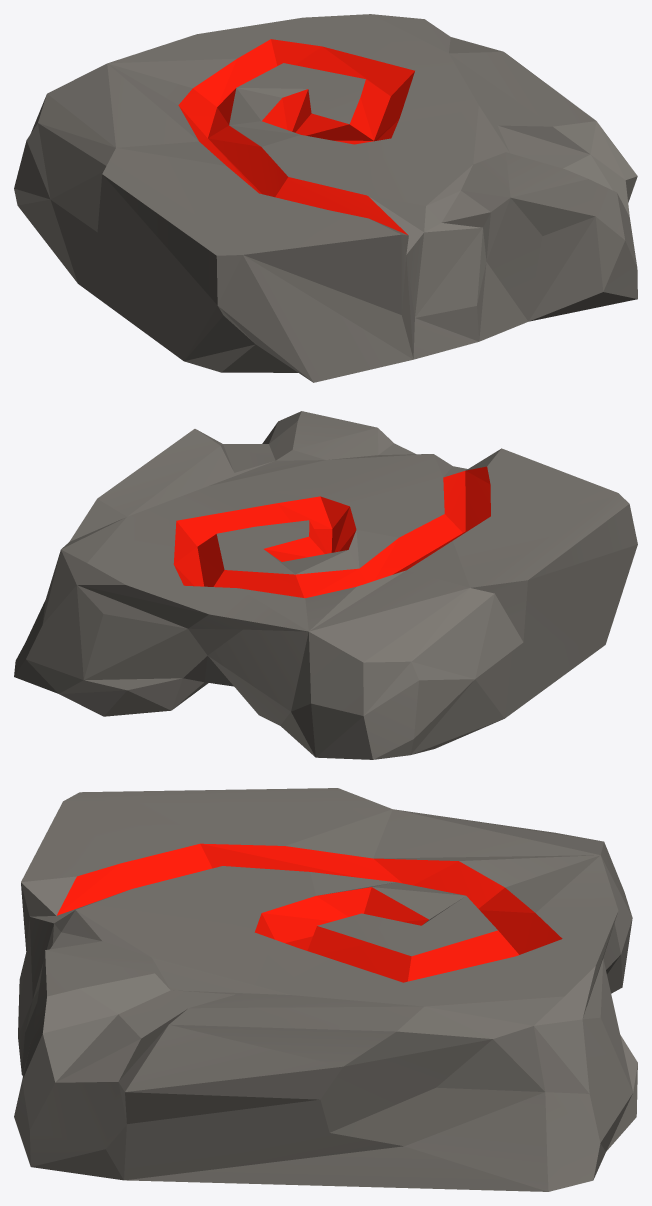
The model's file is SM_Env_Rune_Square_01.obj.
The picture shows the model from 3 angles, top to bottom: view 1: azimuth 30°, elevation 25°; view 2: azimuth 150°, elevation 25°; view 3: azimuth 270°, elevation 25°; orthographic projection. The views are drawn at different scales.
Visible parts, largest first — view 1: SM_Env_Rune_Square_01; view 2: SM_Env_Rune_Square_01; view 3: SM_Env_Rune_Square_01.
Part boxes in pixels (x1,y1,x2,y2): SM_Env_Rune_Square_01: (14,14,637,382); SM_Env_Rune_Square_01: (14,411,637,759); SM_Env_Rune_Square_01: (14,788,637,1191).
Bounding box in the file's own units: 0.5889 × 0.1647 × 0.6091.
